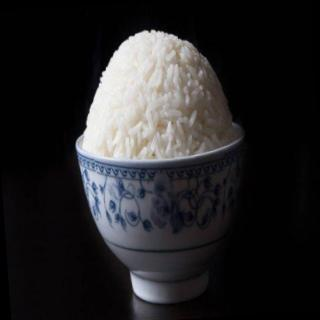Nasi: (74, 25, 237, 165)
